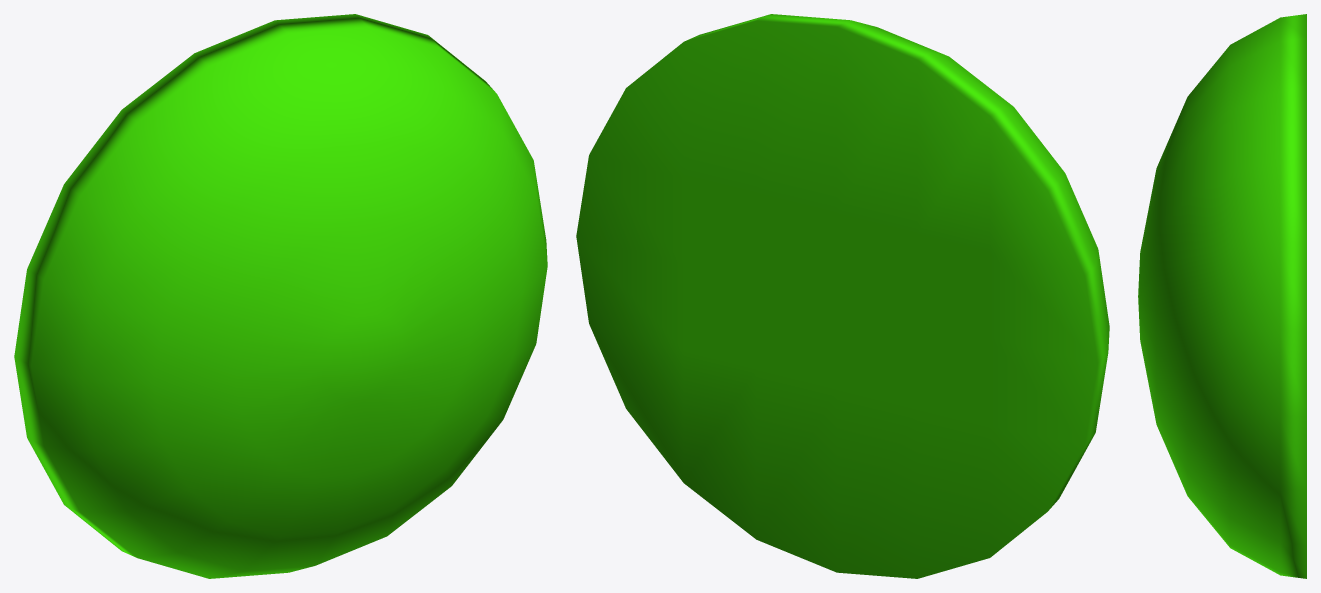
Rendered from SL_Light_Bulb_01.fbx.
The picture shows the model from 3 angles, left to right: view 1: azimuth 30°, elevation 25°; view 2: azimuth 150°, elevation 25°; view 3: azimuth 270°, elevation 25°; orthographic projection. The views are drawn at different scales.
Visible parts, largest first — view 1: SL_Light_Bulb_01; view 2: SL_Light_Bulb_01; view 3: SL_Light_Bulb_01.
Part boxes in pixels (left/top/right/bottom): SL_Light_Bulb_01: left=14, top=14, right=547, bottom=578; SL_Light_Bulb_01: left=576, top=14, right=1109, bottom=578; SL_Light_Bulb_01: left=1138, top=14, right=1306, bottom=578.
Size of the model in its own units: 30.83 by 30.83 by 9.14.
